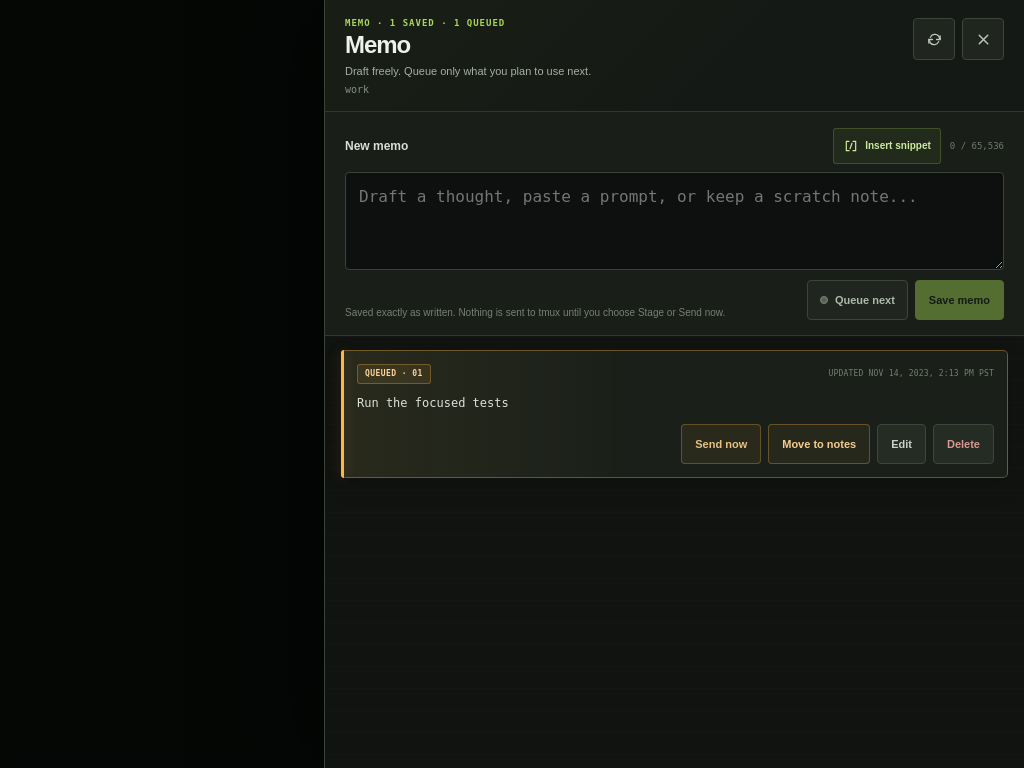
it: MessageQueueDialog › does not send a queued memo when it cannot first persist the move to notes
Expected: the text "Run the focused tests" is shown, [357,396,509,410]
Click the button "Send now" at [721, 444], box [681,424,761,464]
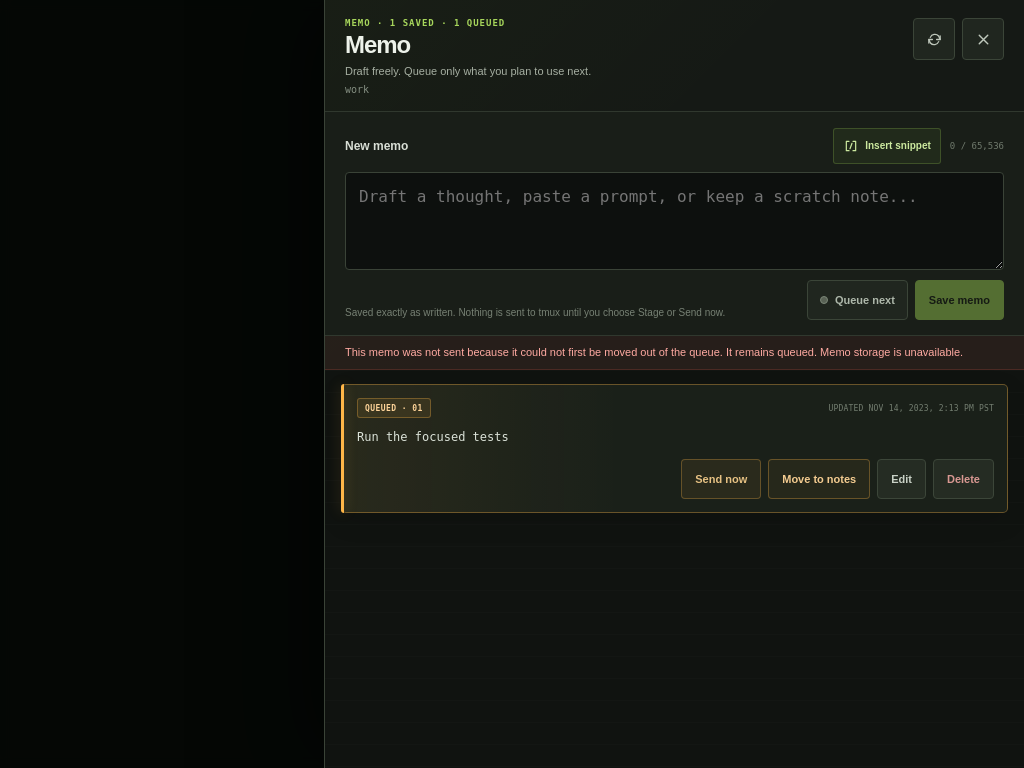
Now the message shows "was not sent", box [345,346,963,358]
Now the message shows "It remains queued", box [345,346,963,358]
Now the message shows "Memo storage is unavailable", box [345,346,963,358]
